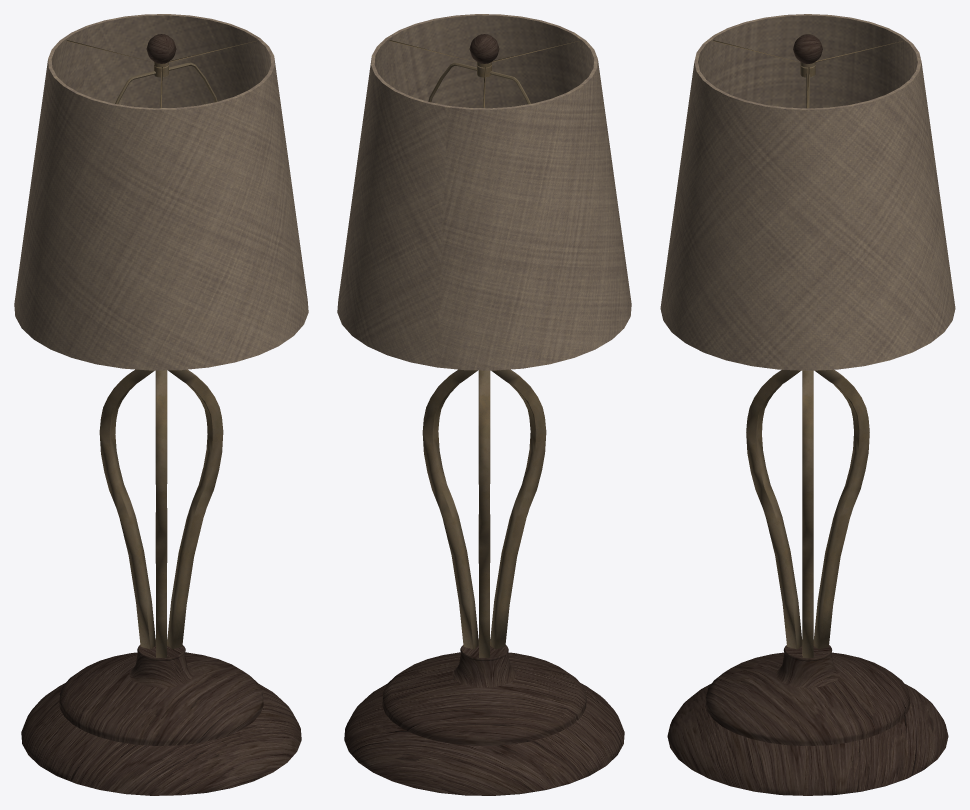
The model's file is SM_TableLamp.fbx.
3 renders of one model, left to right at view 1: azimuth 30°, elevation 25°; view 2: azimuth 150°, elevation 25°; view 3: azimuth 270°, elevation 25°, orthographic.
Parts seen in each view (by area): view 1: TableLamp_export; view 2: TableLamp_export; view 3: TableLamp_export.
Part boxes in pixels (x1=…): TableLamp_export: x1=14, y1=14, x2=308, y2=795; TableLamp_export: x1=337, y1=14, x2=631, y2=795; TableLamp_export: x1=660, y1=14, x2=955, y2=795.
Bounding box in the file's own units: 0.1246 × 0.327 × 0.1246.
